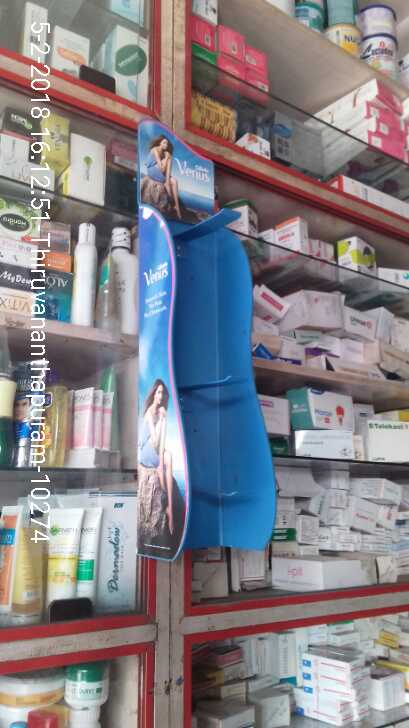reject: (168, 165, 244, 299)
